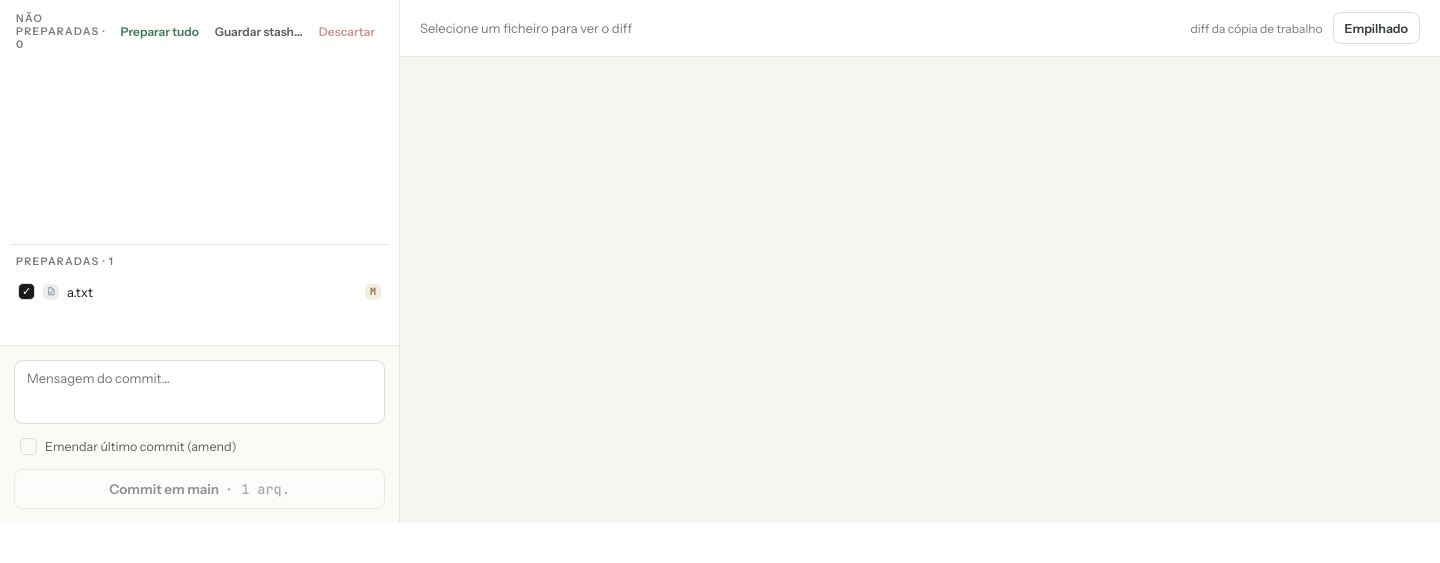
it: Committing: stage + message + commit, end to end through the real mutation wiring › shows a commit error inline and does NOT clear the message when the commit mutation fails
The image size is (1440, 563).
Expected: the text "PREPARADAS · 1" is shown, [16,255,114,268]
In the text box with placeholder "Mensagem do commit…": [200, 392] box [14,360,385,424], type "Will fail"
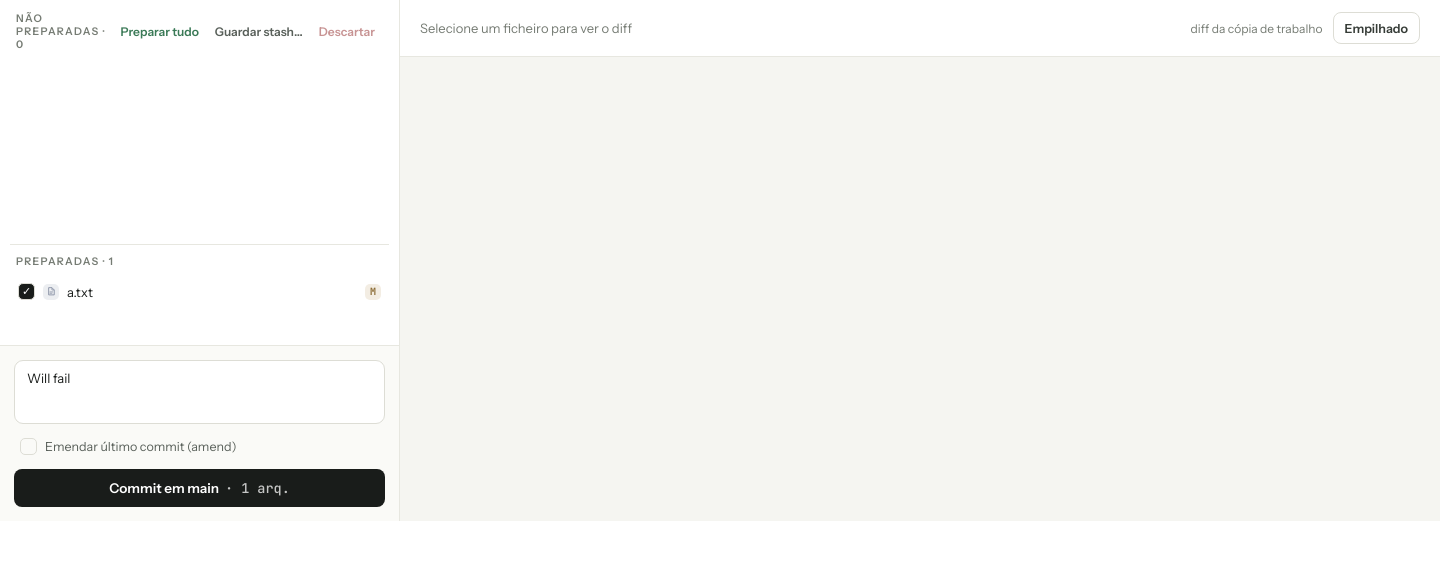
Click the button "Commit em main · 1 arq.": [200, 488] box [14,469,385,507]
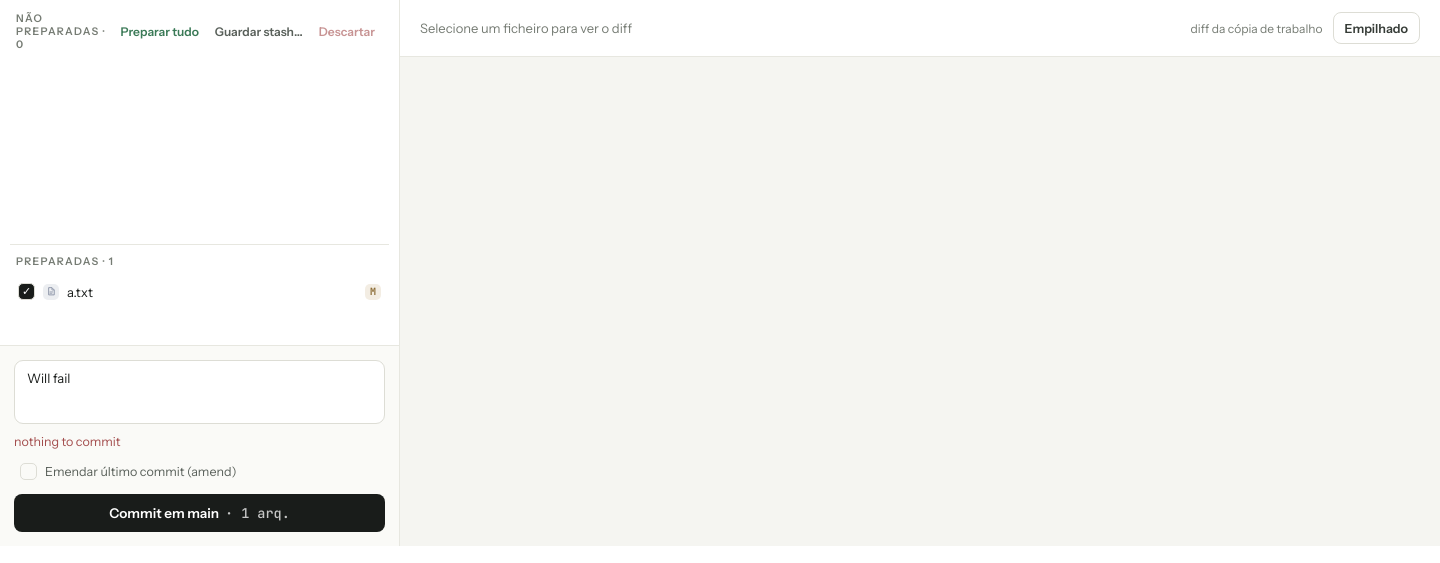
Expected: the text "nothing to commit" is shown, [14,434,120,449]
